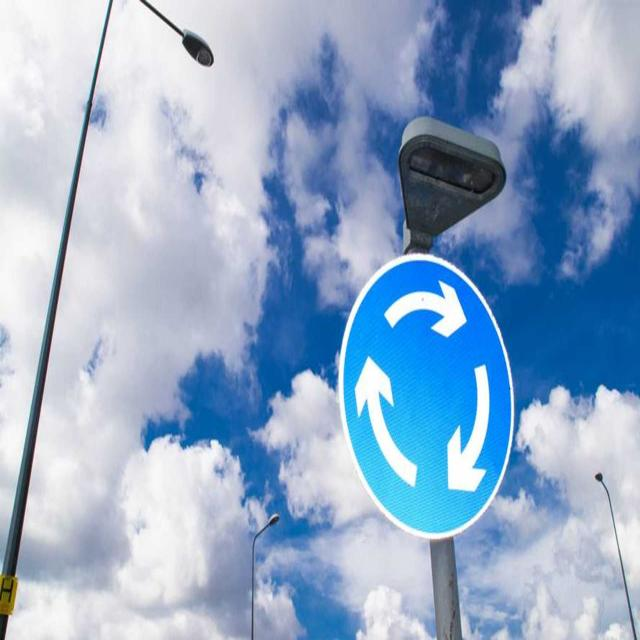roundabout: (332, 244, 518, 550)
